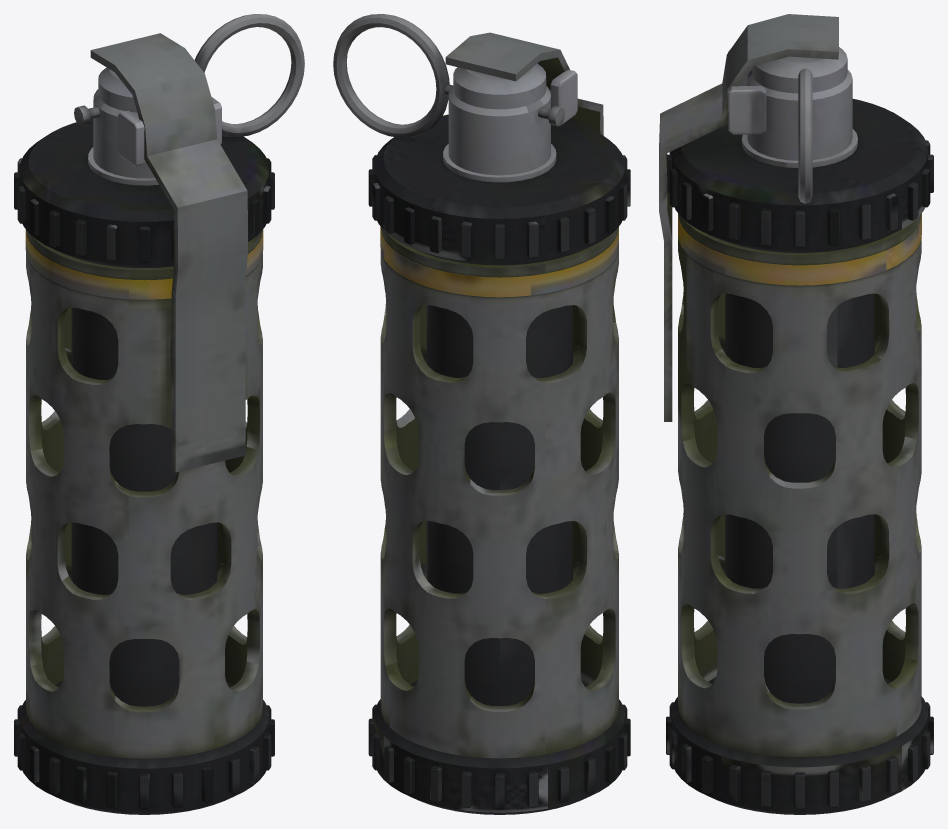
Rendered from throw_stun.glb.
3 renders of one model, left to right at view 1: azimuth 30°, elevation 25°; view 2: azimuth 150°, elevation 25°; view 3: azimuth 270°, elevation 25°, orthographic. The views are drawn at different scales.
Visible parts, largest first — view 1: body, spoon_mesh, pin_mesh; view 2: body, pin_mesh, spoon_mesh; view 3: body, spoon_mesh, pin_mesh.
Part boxes in pixels (<box>): body: <box>14,67,274,814</box>; spoon_mesh: <box>90,33,247,472</box>; pin_mesh: <box>74,14,304,136</box>; body: <box>368,63,630,814</box>; pin_mesh: <box>333,14,565,137</box>; spoon_mesh: <box>445,32,603,135</box>; body: <box>666,47,933,814</box>; spoon_mesh: <box>659,14,838,421</box>; pin_mesh: <box>798,68,812,203</box>.
Bounding box in the file's own units: 0.059 × 0.1483 × 0.0497.
1 material, 1 textured.
